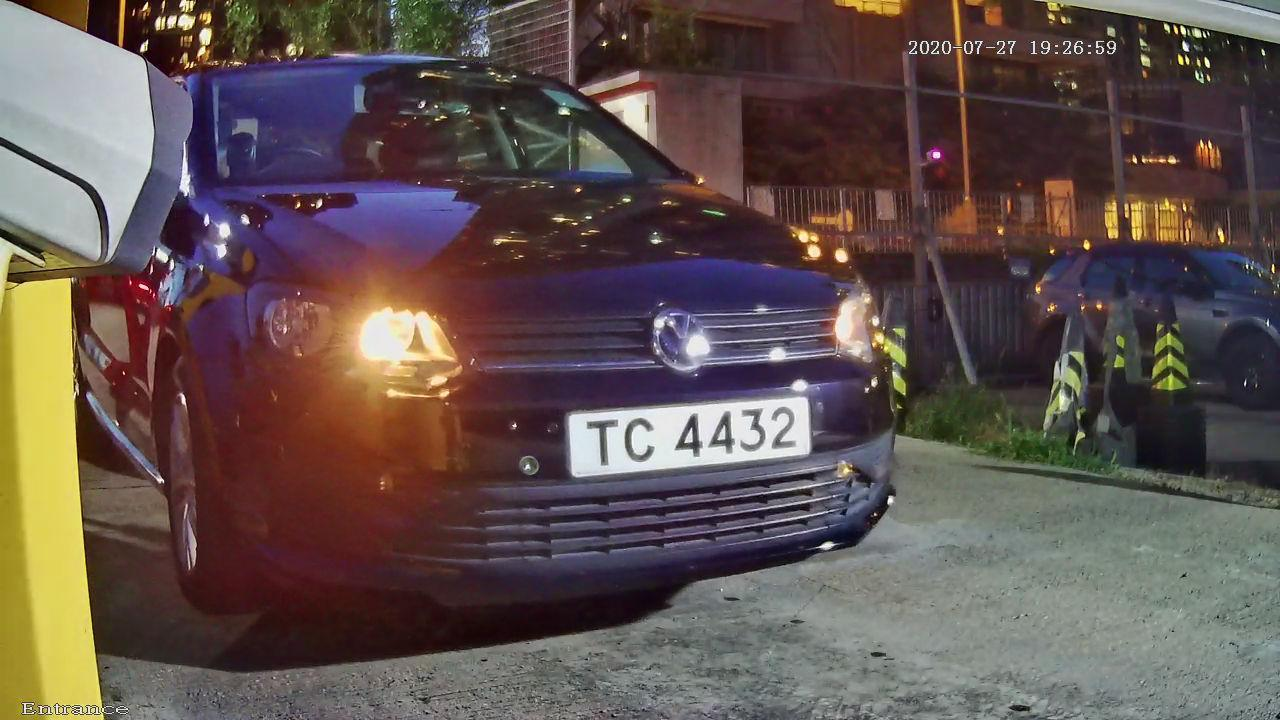privatecar: (80, 23, 949, 627)
